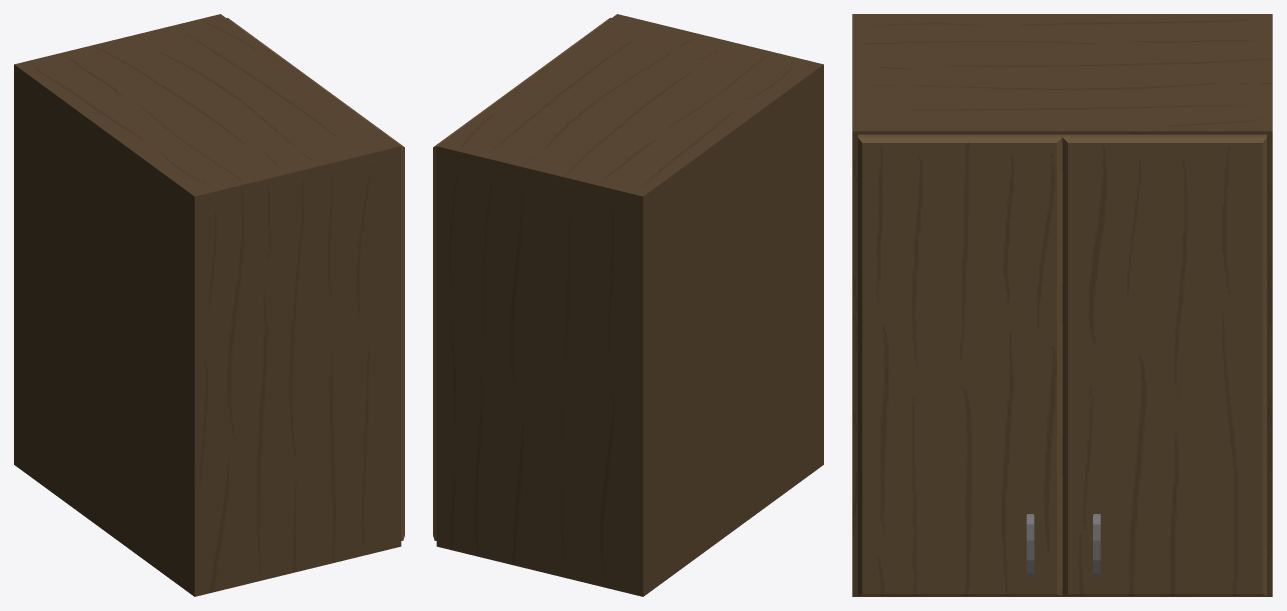
The model's file is UpperCabinet.fbx.
The picture shows the model from 3 angles, left to right: view 1: azimuth 30°, elevation 25°; view 2: azimuth 150°, elevation 25°; view 3: azimuth 270°, elevation 25°; orthographic projection. The views are drawn at different scales.
Visible parts, largest first — view 1: upper cabinet.001; view 2: upper cabinet.001; view 3: upper cabinet.001.
Boxes of the visible parts, x1,y1,x2,y2 form: upper cabinet.001: (14, 14, 404, 596); upper cabinet.001: (433, 14, 823, 596); upper cabinet.001: (852, 14, 1272, 596).
Size of the model in its own units: 64 by 109 by 89.06.
1 material, 1 textured.
